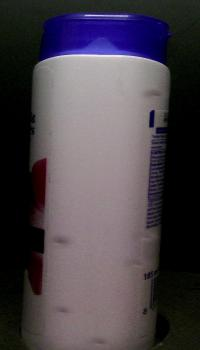dent_marginal: (116, 254, 159, 273), (129, 85, 171, 103), (52, 298, 83, 319), (80, 332, 118, 349), (124, 230, 168, 243), (46, 233, 74, 250)
